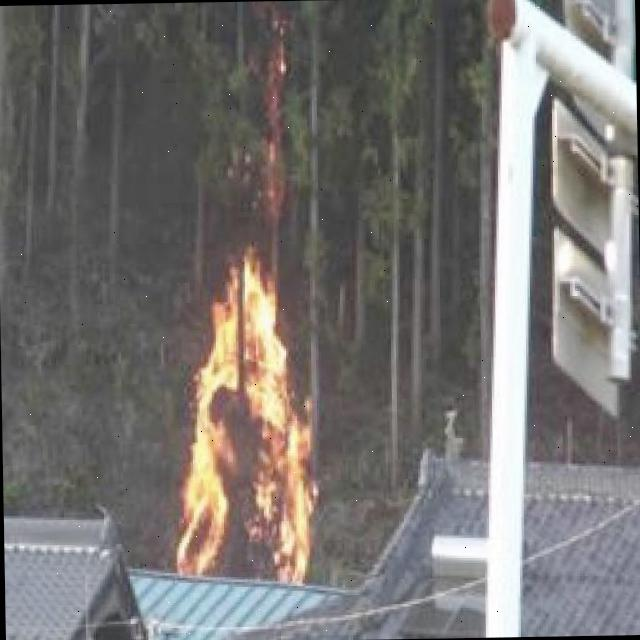fire: (170, 252, 332, 588)
